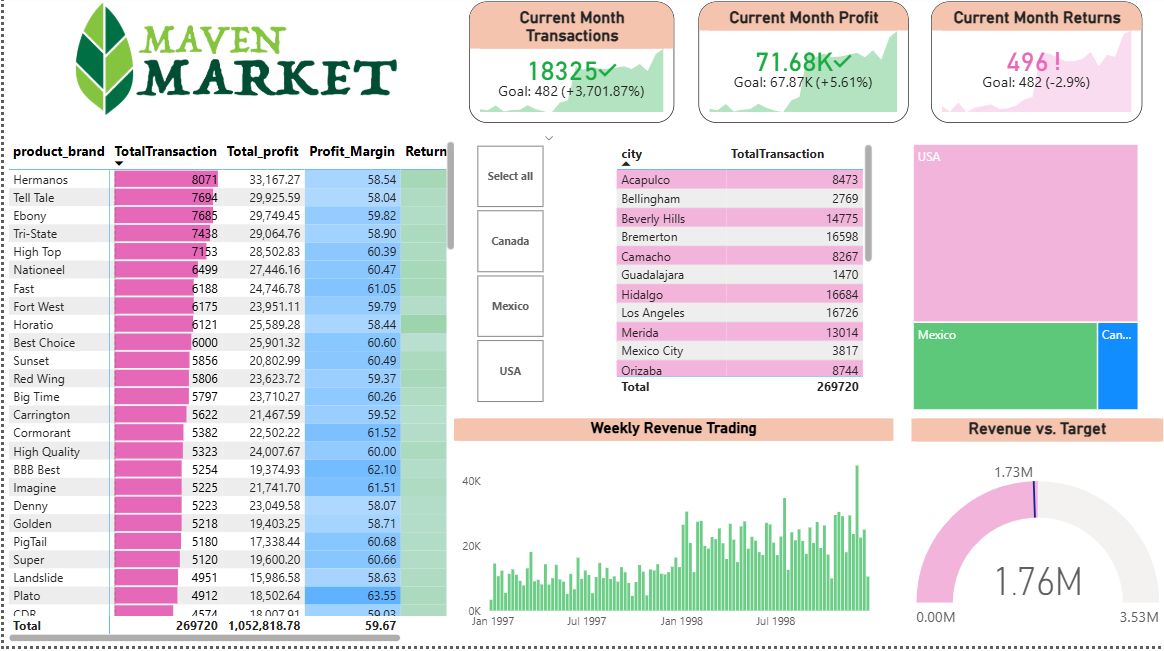

The page's visual inventory and layout, read from the dashboard file:
{"tool":"powerbi","page":{"name":"Final Report","canvas":[1280,720],"ordinal":0},"visuals":[{"type":"image","box":[30.2,0,449.8,141.7],"z":0},{"type":"pivotTable","fields":{"Rows":["products.product_brand"],"Values":["Transaction-1997-98.TotalTransaction","Transaction-1997-98.Total_profit","Transaction-1997-98.Profit_Margin","Return_Data.Return_Rate"]},"box":[0,156.9,502.7,563.2],"z":1000},{"type":"kpi","title":"Current Month Transactions","fields":{"TrendLine":["Calender.Start of Month"],"Indicator":["Transaction-1997-98.TotalTransaction"],"Goal":["Transaction-1997-98.Last_Month_Transaction"]},"box":[513.5,8.3,226.9,134.2],"z":2000},{"type":"kpi","title":"Current Month Profit","fields":{"TrendLine":["Calender.Start of Month"],"Indicator":["Transaction-1997-98.Total_profit"],"Goal":["Transaction-1997-98.Last_Month_Profit"]},"box":[767,8.3,231.9,134.2],"z":3000},{"type":"kpi","title":"Current Month Returns","fields":{"TrendLine":["Calender.Start of Month"],"Indicator":["Return_Data.Total_Returns"],"Goal":["Transaction-1997-98.Last_Month_Returns"]},"box":[1023.7,8.3,233.6,134.2],"z":4000},{"type":"slicer","fields":{"Values":["Stores.country/region"]},"box":[496.9,152.4,122.6,304.8],"z":5000},{"type":"tableEx","fields":{"Values":["Stores.city","Transaction-1997-98.TotalTransaction"]},"box":[670.9,160.7,293.2,286.6],"z":6000},{"type":"treemap","fields":{"Group":["Stores.country/region","Stores.city","Stores.state"],"Values":["Transaction-1997-98.TotalTransaction"]},"box":[998.9,160.7,258.4,303.1],"z":7000},{"type":"columnChart","title":"Weekly Revenue Trading","fields":{"Y":["Transaction-1997-98.Total_revenue"],"Category":["Calender.Start of Week"]},"box":[496.9,468.8,485.3,241.8],"z":8000},{"type":"gauge","title":"Revenue vs. Target","fields":{"Y":["Transaction-1997-98.Total_revenue"],"TargetValue":["Transaction-1997-98.Revenue_Target"]},"box":[1002.2,468.8,278.3,251.8],"z":9000}]}

Visuals, with their boxes in screenshot pixels (x1, y1, x2, y2), scaled from the page's 1280x720 canvas onto the 1164x651 screenshot:
image: [27, 0, 436, 128]
pivotTable - products.product_brand x Transaction-1997-98.TotalTransaction: [0, 142, 457, 650]
"Current Month Transactions" kpi: [467, 8, 673, 129]
"Current Month Profit" kpi: [697, 8, 908, 129]
"Current Month Returns" kpi: [931, 8, 1143, 129]
slicer - Stores.country/region: [452, 138, 563, 413]
tableEx - Stores.city x Transaction-1997-98.TotalTransaction: [610, 145, 877, 404]
treemap - Stores.country/region x Stores.city: [908, 145, 1143, 419]
"Weekly Revenue Trading" columnChart: [452, 424, 893, 643]
"Revenue vs. Target" gauge: [911, 424, 1163, 650]
